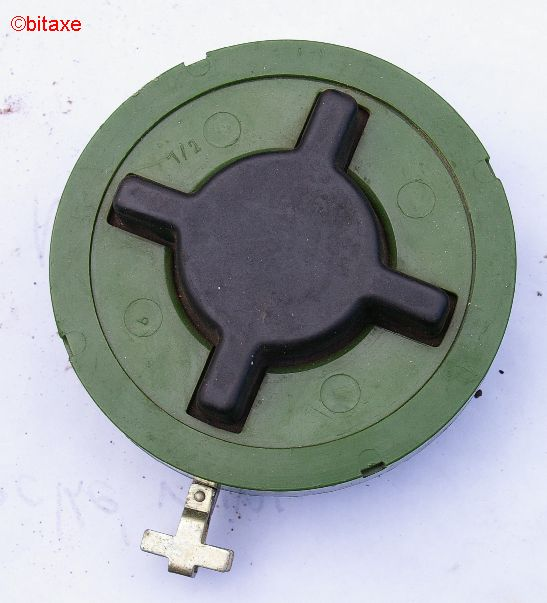PMN 2: (47, 34, 522, 491)
